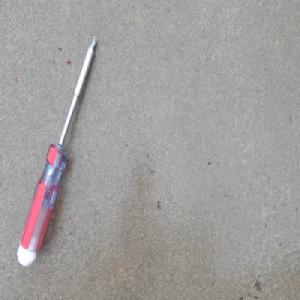Screwdriver: (15, 33, 98, 268)
